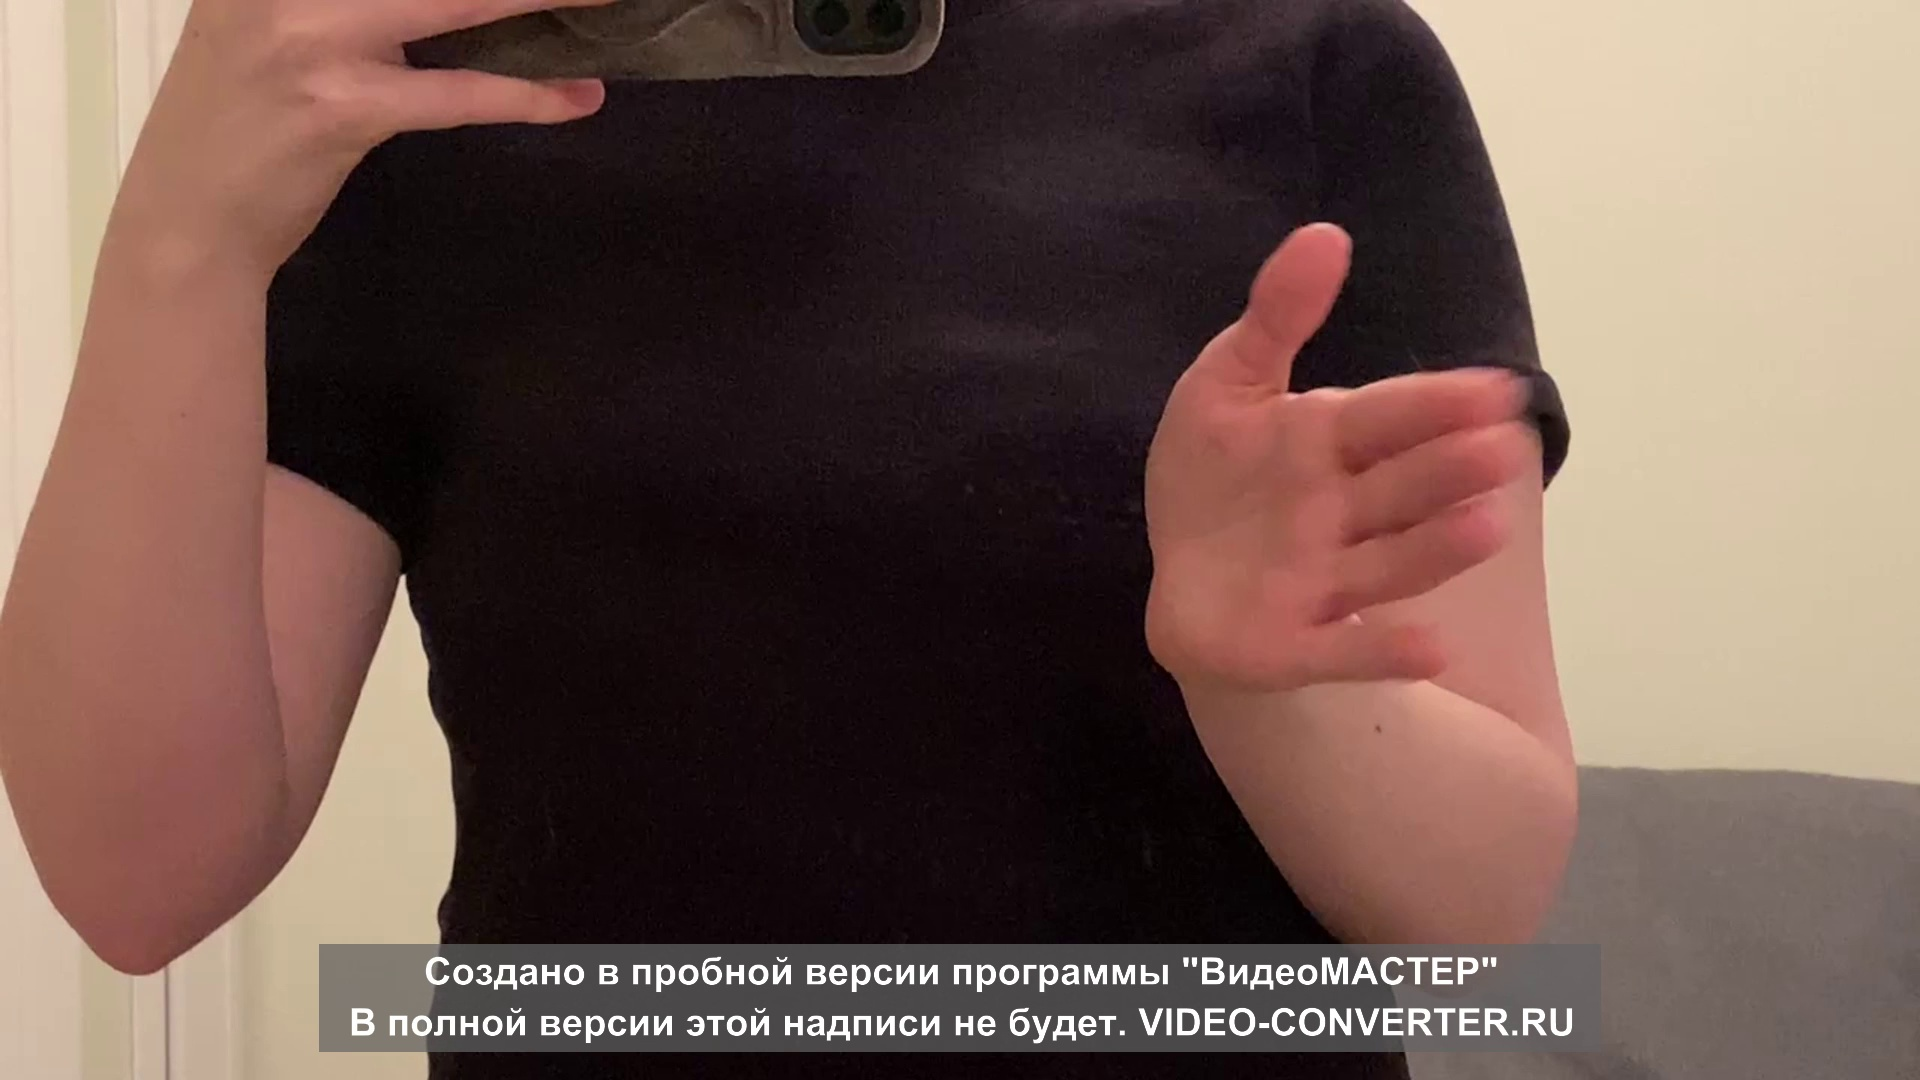Ладонь: (1139, 222, 1551, 680)
